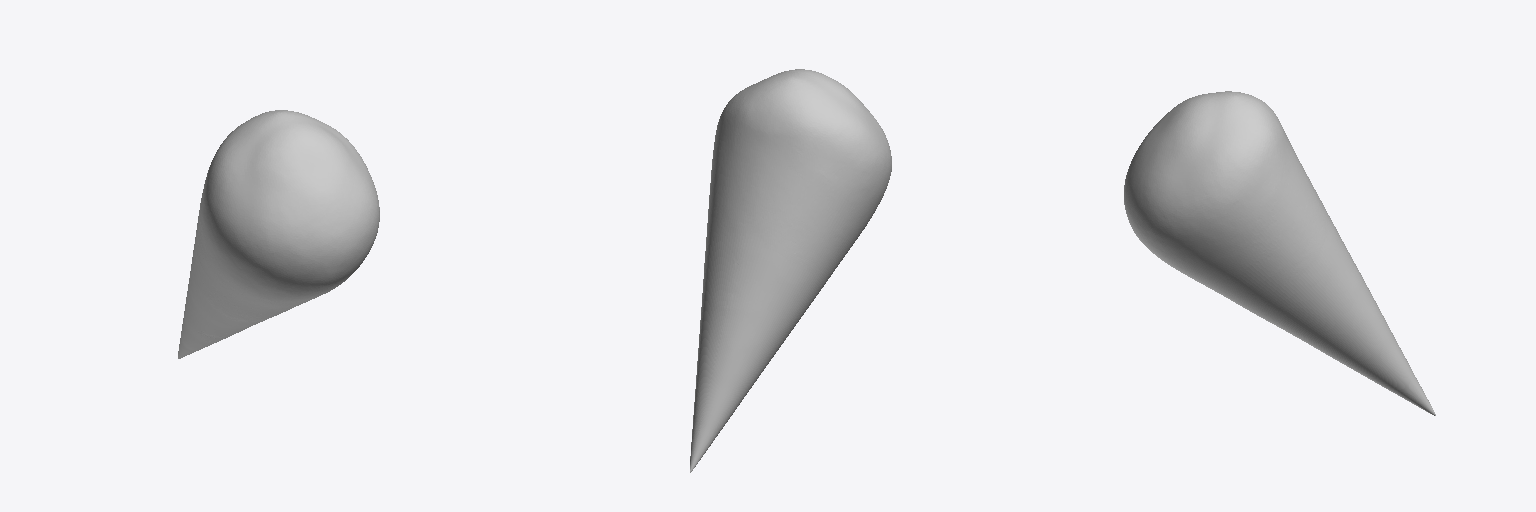
The model's file is tooth.obj.
The picture shows the model from 3 angles: view 1: azimuth 30°, elevation 25°; view 2: azimuth 150°, elevation 25°; view 3: azimuth 270°, elevation 25°; orthographic projection.
Visible parts, largest first — view 1: ZBrush_defualt_group; view 2: ZBrush_defualt_group; view 3: ZBrush_defualt_group.
Part boxes in pixels (bbox=[...]): ZBrush_defualt_group: bbox=[178, 110, 379, 358]; ZBrush_defualt_group: bbox=[690, 69, 891, 472]; ZBrush_defualt_group: bbox=[1124, 91, 1435, 415].
Size of the model in its own units: 0.0233 by 0.046 by 0.0406.